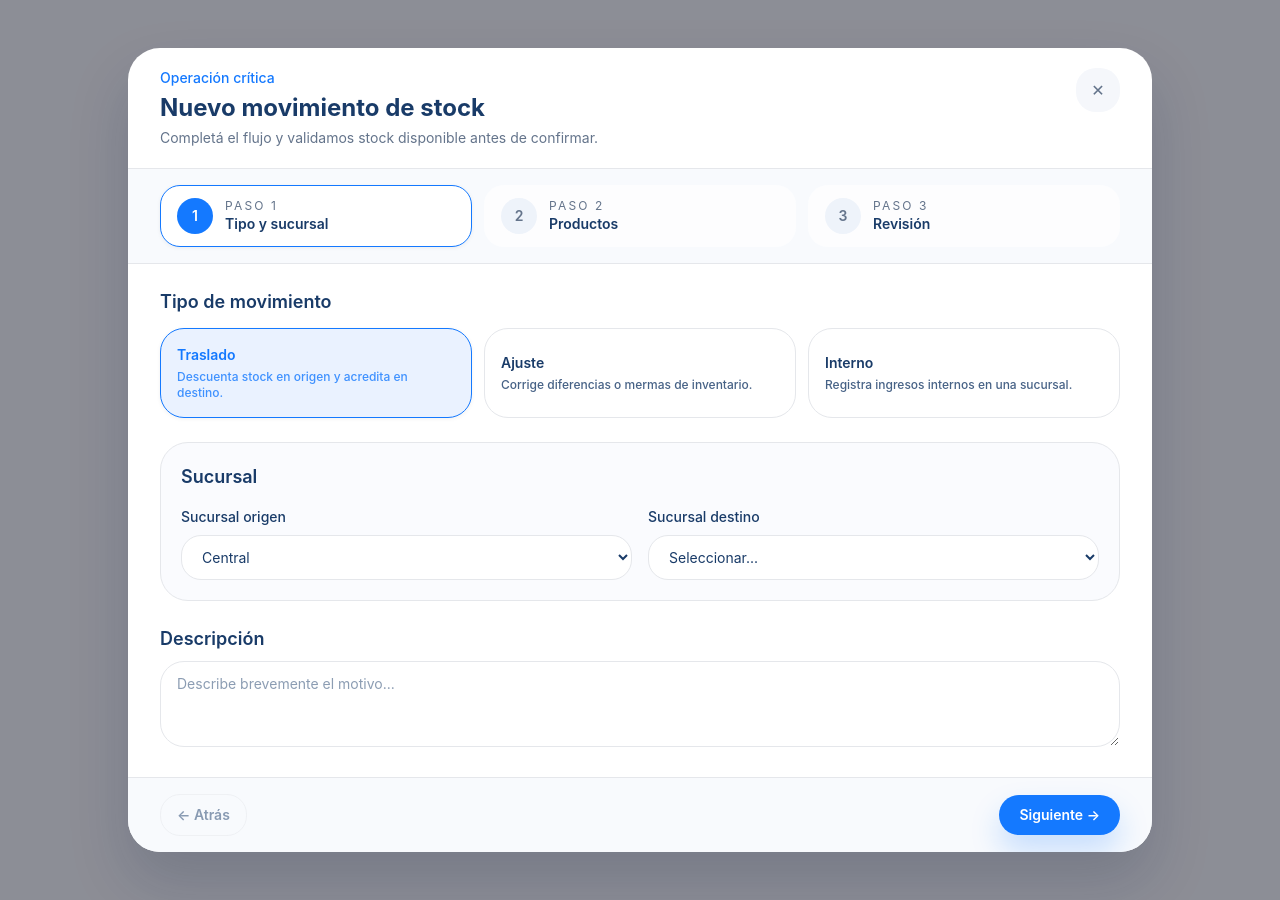
Test case: validateStep1 — navegación al paso 1 › muestra error si TRANSFER tiene el mismo origen y destino
Click the button "Siguiente →" at (1060, 815), box [999,795,1120,835]
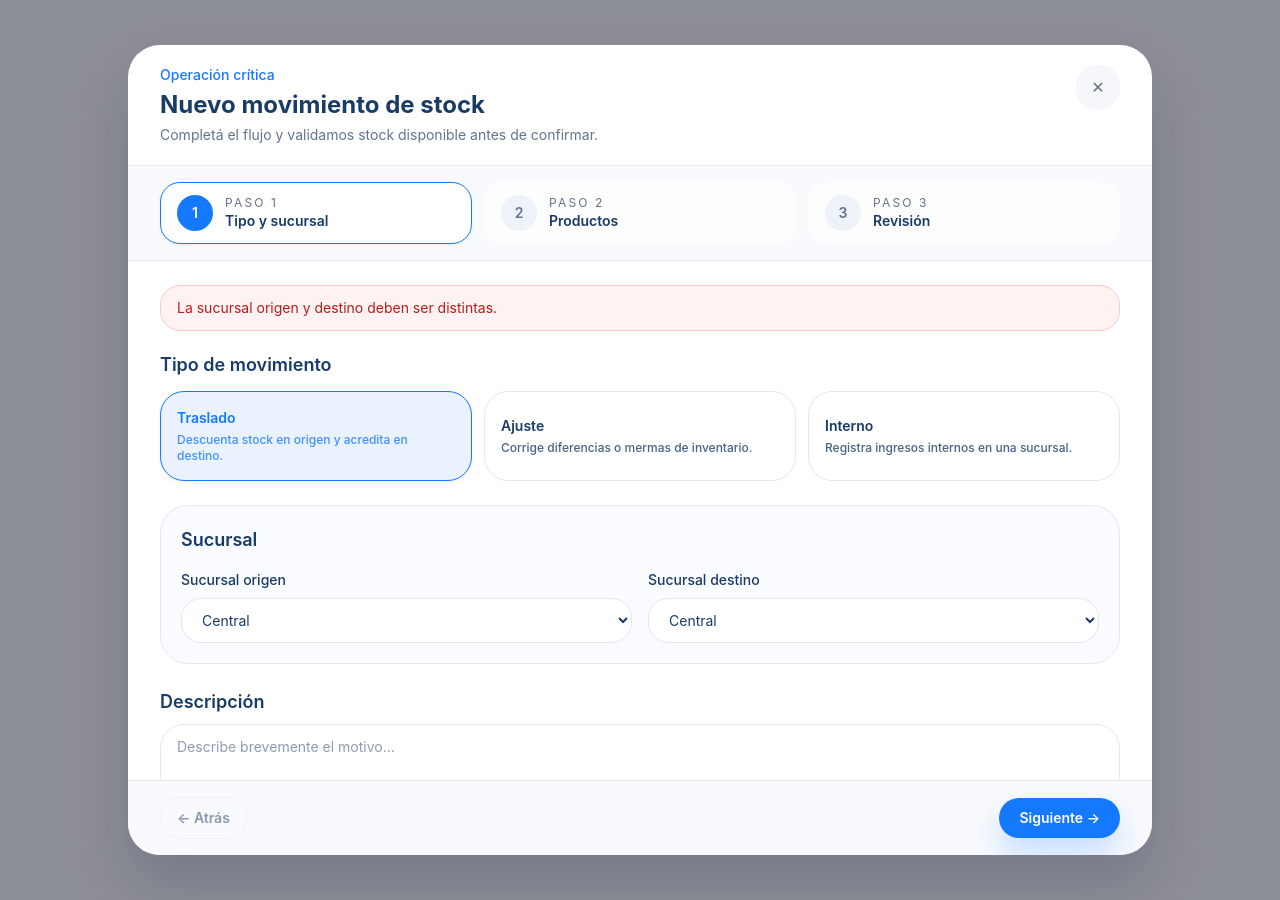
Expected: the text "origen y destino deben ser distintas" is shown, [177,299,497,316]
